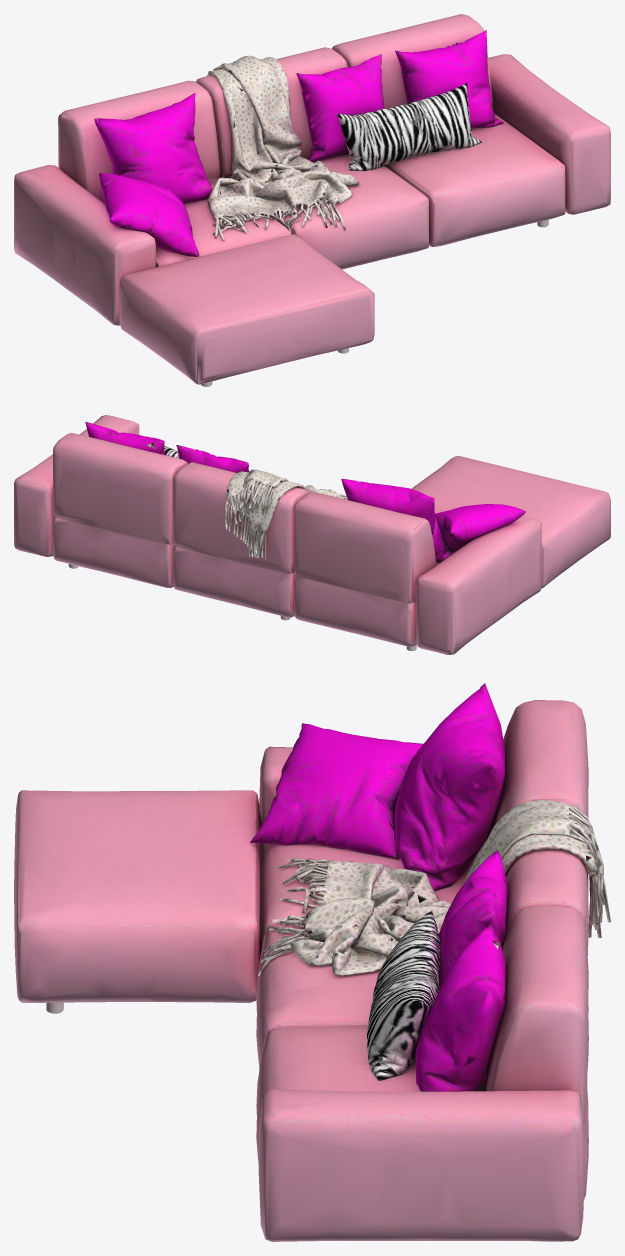
3 views of the same model, one above another, from view 1: azimuth 30°, elevation 25°; view 2: azimuth 150°, elevation 25°; view 3: azimuth 270°, elevation 25° (orthographic). The views are drawn at different scales.
Visible parts, largest first — view 1: Sofa; view 2: Sofa; view 3: Sofa.
Boxes of the visible parts, bbox=[...] form: Sofa: bbox=[14, 14, 610, 386]; Sofa: bbox=[14, 415, 610, 654]; Sofa: bbox=[14, 683, 610, 1241].
Size of the model in its own units: 293 by 88.13 by 195.
Materials: 1 (1 with a texture image).
